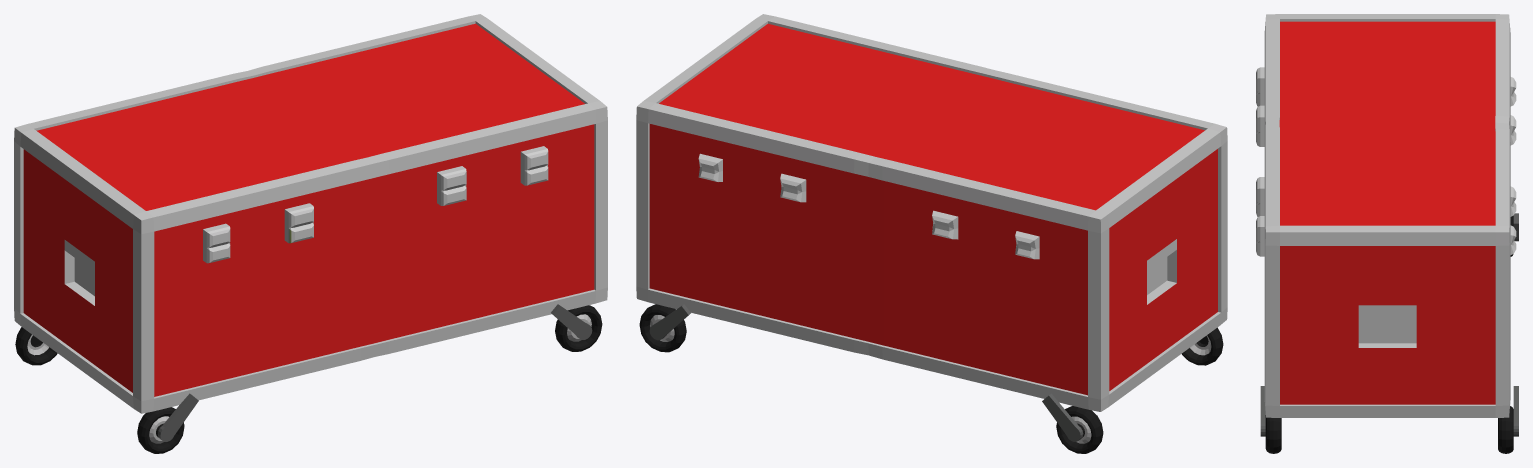
The model's file is BigWheelBox 1.fbx.
3 renders of one model, left to right at view 1: azimuth 30°, elevation 25°; view 2: azimuth 150°, elevation 25°; view 3: azimuth 270°, elevation 25°, orthographic. The views are drawn at different scales.
Parts seen in each view (by area): view 1: BigWhellBox; view 2: BigWhellBox; view 3: BigWhellBox.
Part boxes in pixels (x1,y1,x2,y2): BigWhellBox: (14,14,607,453); BigWhellBox: (636,14,1227,453); BigWhellBox: (1256,14,1518,453).
Size of the model in its own units: 199 by 98.41 by 101.
